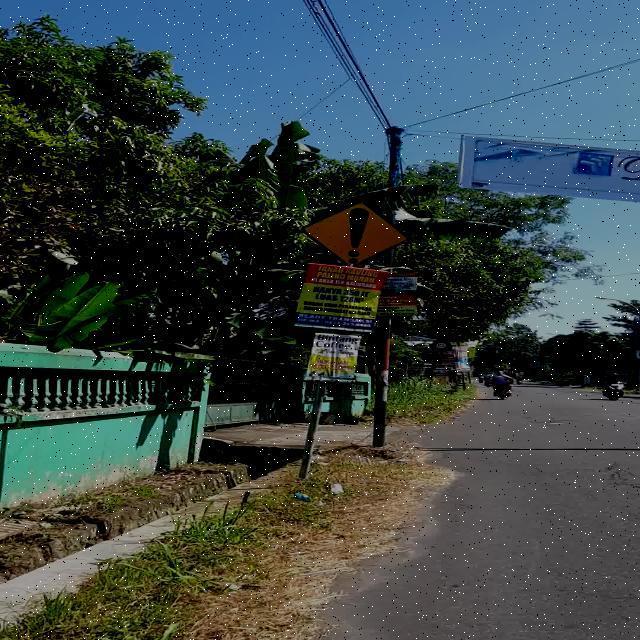Hati-Hati: (302, 200, 409, 267)
